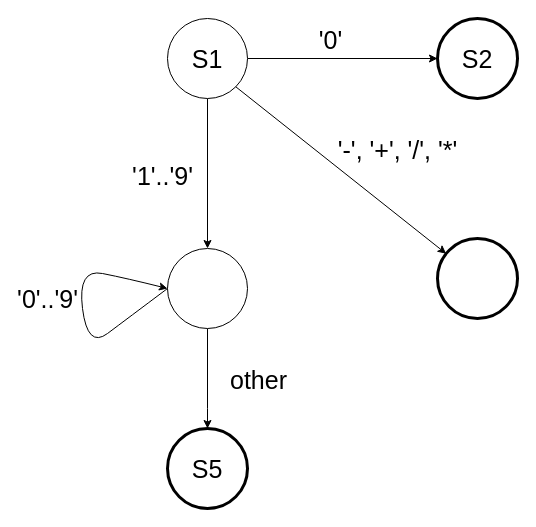
The diagram is 536 pixels wide and 527 high, and some of its shapes have lost their labels. Each missing label, with the box of its shape:
S3: (166, 248, 248, 328)
S4: (436, 236, 518, 320)
